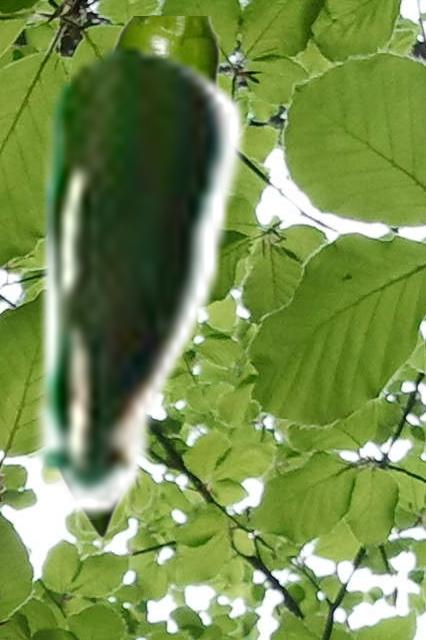green_chili: (20, 40, 249, 518), (83, 16, 221, 538)
